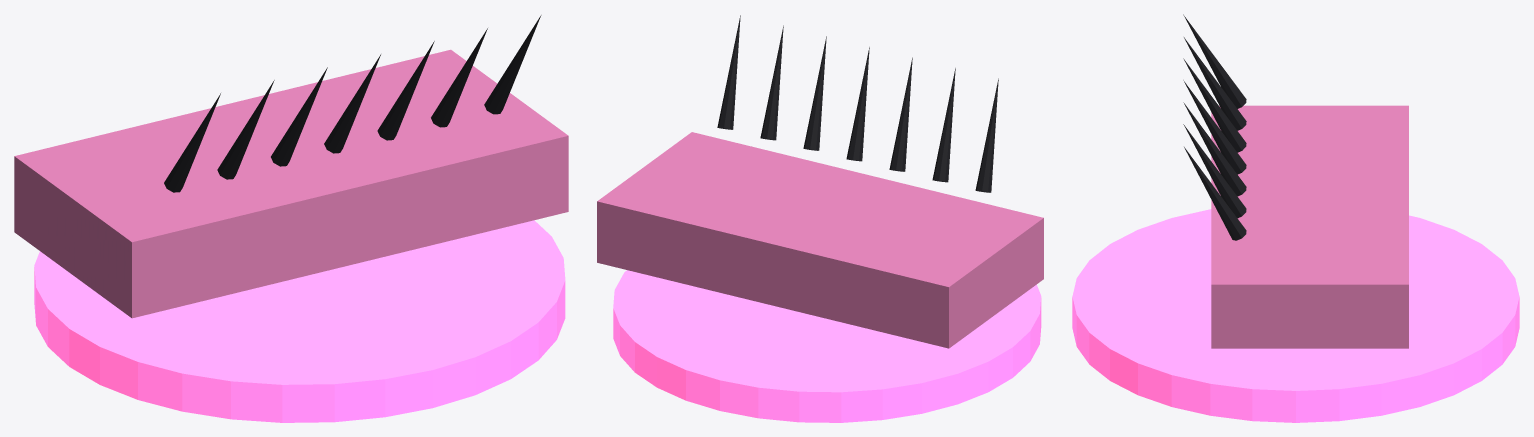
The model's file is beauty_false_lashes.glb.
3 renders of one model, left to right at view 1: azimuth 30°, elevation 25°; view 2: azimuth 150°, elevation 25°; view 3: azimuth 270°, elevation 25°, orthographic. The views are drawn at different scales.
Visible parts, largest first — view 1: 03_14_Popular_Beauty_False_Lashes_part_01, 03_14_Popular_Beauty_False_Lashes_ROOT_base, 03_14_Popular_Beauty_False_Lashes_part_02, 03_14_Popular_Beauty_False_Lashes_part_05, 03_14_Popular_Beauty_False_Lashes_part_03, 03_14_Popular_Beauty_False_Lashes_part_06, 03_14_Popular_Beauty_False_Lashes_part_04, 03_14_Popular_Beauty_False_Lashes_part_07, 03_14_Popular_Beauty_False_Lashes_part_08; view 2: 03_14_Popular_Beauty_False_Lashes_part_01, 03_14_Popular_Beauty_False_Lashes_ROOT_base, 03_14_Popular_Beauty_False_Lashes_part_02, 03_14_Popular_Beauty_False_Lashes_part_04, 03_14_Popular_Beauty_False_Lashes_part_06, 03_14_Popular_Beauty_False_Lashes_part_07, 03_14_Popular_Beauty_False_Lashes_part_08, 03_14_Popular_Beauty_False_Lashes_part_03, 03_14_Popular_Beauty_False_Lashes_part_05; view 3: 03_14_Popular_Beauty_False_Lashes_ROOT_base, 03_14_Popular_Beauty_False_Lashes_part_01, 03_14_Popular_Beauty_False_Lashes_part_08, 03_14_Popular_Beauty_False_Lashes_part_06, 03_14_Popular_Beauty_False_Lashes_part_05, 03_14_Popular_Beauty_False_Lashes_part_03, 03_14_Popular_Beauty_False_Lashes_part_04, 03_14_Popular_Beauty_False_Lashes_part_02, 03_14_Popular_Beauty_False_Lashes_part_07.
Part boxes in pixels (left/top/right/bottom): 03_14_Popular_Beauty_False_Lashes_part_01: left=14, top=49, right=568, bottom=318; 03_14_Popular_Beauty_False_Lashes_ROOT_base: left=34, top=220, right=565, bottom=422; 03_14_Popular_Beauty_False_Lashes_part_02: left=164, top=93, right=220, bottom=192; 03_14_Popular_Beauty_False_Lashes_part_05: left=324, top=54, right=380, bottom=153; 03_14_Popular_Beauty_False_Lashes_part_03: left=217, top=80, right=274, bottom=179; 03_14_Popular_Beauty_False_Lashes_part_06: left=377, top=41, right=434, bottom=140; 03_14_Popular_Beauty_False_Lashes_part_04: left=271, top=67, right=327, bottom=166; 03_14_Popular_Beauty_False_Lashes_part_07: left=431, top=28, right=487, bottom=127; 03_14_Popular_Beauty_False_Lashes_part_08: left=484, top=15, right=541, bottom=114; 03_14_Popular_Beauty_False_Lashes_part_01: left=597, top=132, right=1043, bottom=348; 03_14_Popular_Beauty_False_Lashes_ROOT_base: left=613, top=270, right=1041, bottom=422; 03_14_Popular_Beauty_False_Lashes_part_02: left=975, top=78, right=998, bottom=192; 03_14_Popular_Beauty_False_Lashes_part_04: left=889, top=57, right=912, bottom=171; 03_14_Popular_Beauty_False_Lashes_part_06: left=803, top=36, right=826, bottom=150; 03_14_Popular_Beauty_False_Lashes_part_07: left=760, top=25, right=783, bottom=140; 03_14_Popular_Beauty_False_Lashes_part_08: left=717, top=15, right=740, bottom=129; 03_14_Popular_Beauty_False_Lashes_part_03: left=932, top=68, right=955, bottom=182; 03_14_Popular_Beauty_False_Lashes_part_05: left=846, top=47, right=869, bottom=161; 03_14_Popular_Beauty_False_Lashes_ROOT_base: left=1072, top=209, right=1519, bottom=422; 03_14_Popular_Beauty_False_Lashes_part_01: left=1211, top=105, right=1408, bottom=348; 03_14_Popular_Beauty_False_Lashes_part_08: left=1184, top=147, right=1246, bottom=240; 03_14_Popular_Beauty_False_Lashes_part_06: left=1183, top=102, right=1246, bottom=196; 03_14_Popular_Beauty_False_Lashes_part_05: left=1183, top=80, right=1246, bottom=174; 03_14_Popular_Beauty_False_Lashes_part_03: left=1184, top=37, right=1246, bottom=130; 03_14_Popular_Beauty_False_Lashes_part_04: left=1183, top=58, right=1246, bottom=152; 03_14_Popular_Beauty_False_Lashes_part_02: left=1183, top=14, right=1246, bottom=108; 03_14_Popular_Beauty_False_Lashes_part_07: left=1183, top=124, right=1246, bottom=218.
Bounding box in the file's own units: 0.76 × 0.478 × 0.76.
